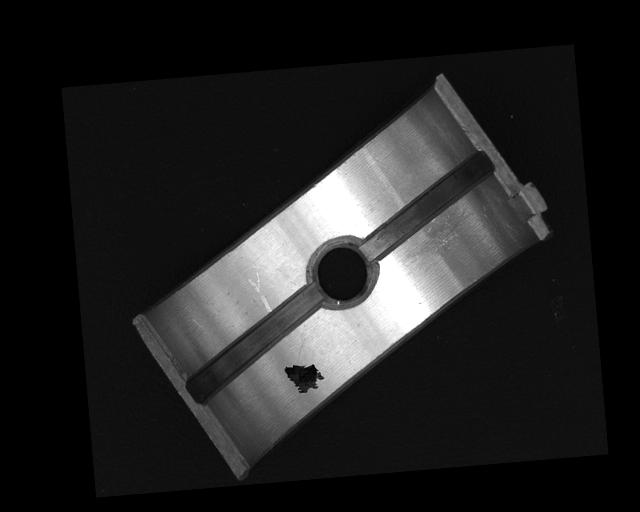blot: (284, 362, 325, 395)
gap: (180, 283, 327, 403), (354, 150, 503, 258)
hole: (306, 233, 379, 310)
nick: (247, 270, 272, 316)
scratch: (398, 201, 479, 264)
